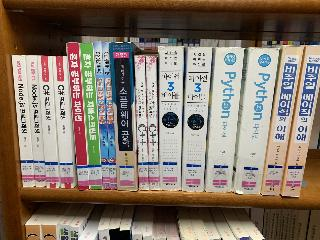book-spine: (230, 45, 280, 197), (259, 43, 304, 198), (202, 45, 245, 195), (279, 43, 320, 199), (182, 46, 212, 193), (110, 41, 137, 192), (66, 42, 91, 190), (160, 46, 183, 191), (80, 42, 102, 190), (12, 54, 34, 188), (52, 55, 74, 188), (38, 55, 59, 189), (25, 54, 46, 187), (94, 41, 110, 190), (102, 42, 117, 190), (134, 55, 148, 191), (146, 56, 159, 190)
